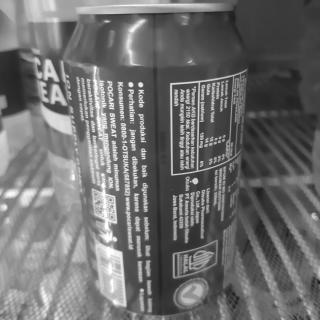alumunium_can: (57, 0, 249, 312)
